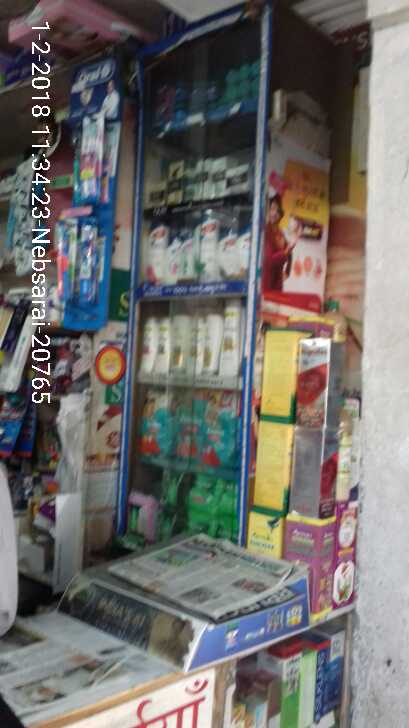oralcare: (39, 57, 120, 325)
